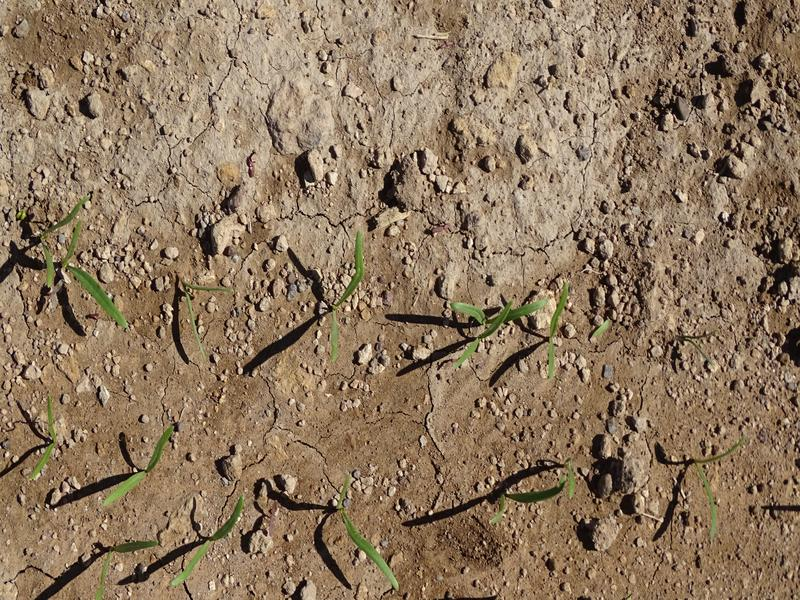Espinaca: (447, 284, 571, 375), (29, 218, 131, 327), (167, 491, 251, 588), (331, 482, 405, 592), (99, 422, 176, 512), (316, 227, 367, 361), (486, 458, 581, 523), (690, 444, 746, 544), (26, 394, 57, 480)
